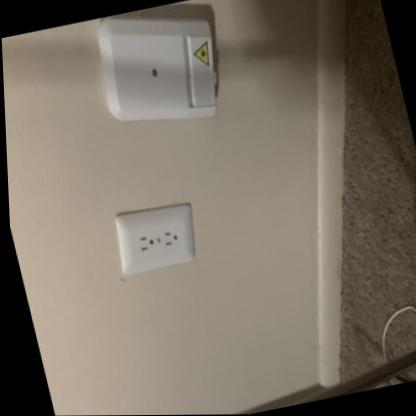OUTLET: (108, 200, 203, 276)
